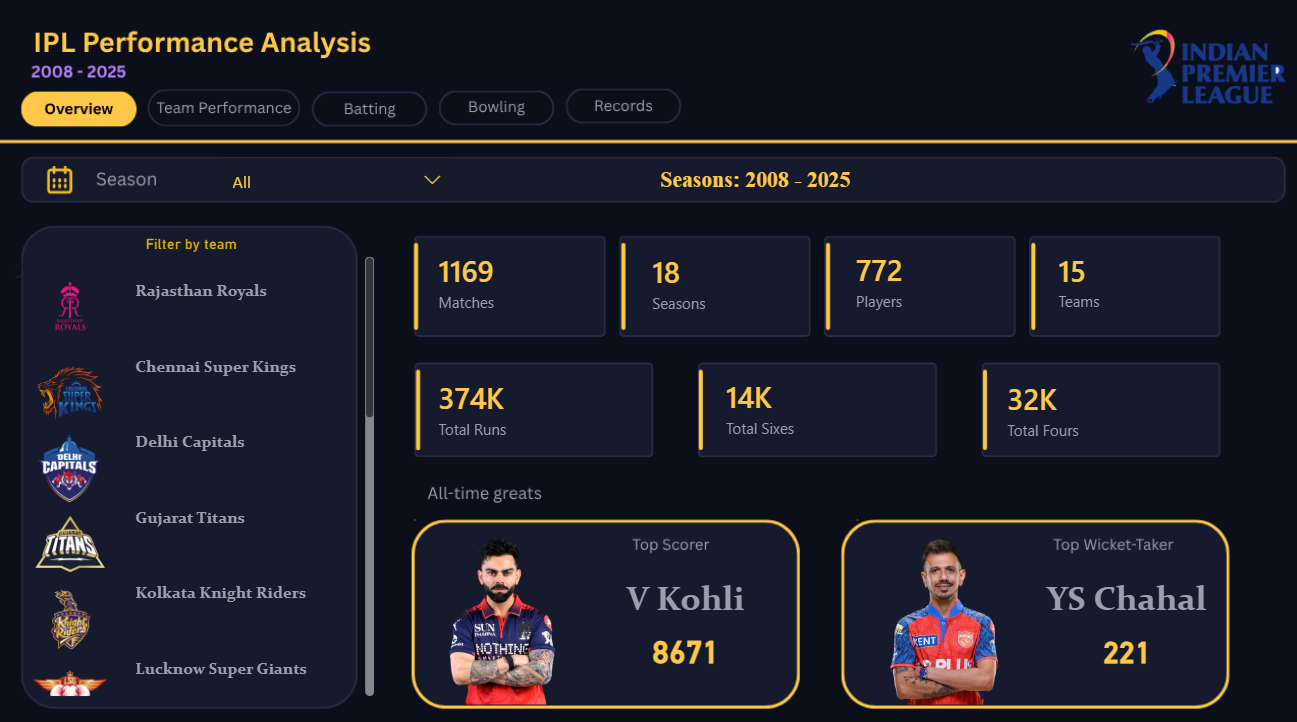

The dashboard page shown, as its layout file describes it:
{"tool":"powerbi","page":{"name":"Overview","canvas":[1280,720],"ordinal":0},"visuals":[{"type":"cardVisual","fields":{"Data":["_Measures.Total Fours"]},"box":[960.7,358.3,215.4,101.5],"z":0},{"type":"cardVisual","fields":{"Data":["_Measures.Total Sixes"]},"box":[684.7,358.3,215.4,97.4],"z":1000},{"type":"cardVisual","fields":{"Data":["_Measures.Total Matches"]},"box":[402.5,238,172.9,90.6],"z":2000},{"type":"cardVisual","fields":{"Data":["_Measures.Total Players"]},"box":[812.3,236.8,148.2,91.9],"z":3000},{"type":"cardVisual","fields":{"Data":["_Measures.Total Runs"]},"box":[402.5,357.1,215.4,101.5],"z":4000},{"type":"cardVisual","fields":{"Data":["_Measures.Total Seasons"]},"box":[612.3,238,145.5,93.3],"z":5000},{"type":"cardVisual","fields":{"Data":["_Measures.Total Teams"]},"box":[1011,234.4,215.4,97.4],"z":6000},{"type":"tableEx","title":"Filter by team","fields":{"Values":["ipl_teams_clean.image_url","ipl_teams_clean.team_name"]},"box":[9.8,234.4,358.3,452.8],"z":7000},{"type":"tableEx","title":"All-Time Top Scorer","fields":{"Values":["ipl_players_clean.player_image"]},"box":[401.2,504,171.8,201.2],"z":8000},{"type":"tableEx","fields":{"Values":["ipl_players_clean.player_image"]},"box":[835.7,504,188,201.7],"z":9000},{"type":"cardVisual","fields":{"Data":["_Measures.Total Runs by Player"],"Rows":["ipl_players_clean.player_name"]},"box":[566.7,573.6,214.1,113.9],"z":10000},{"type":"cardVisual","fields":{"Data":["_Measures.Total Wickets by Player"],"Rows":["ipl_players_clean.player_name"]},"box":[1000.3,573.6,214.1,113.9],"z":11000},{"type":"slicer","fields":{"Values":["ipl_matches_clean.season"]},"box":[218.4,160,225.8,39],"z":12000},{"type":"image","box":[1108,28.2,158.3,81],"z":13000},{"type":"cardVisual","fields":{"Data":["_Measures.Season Range"]},"box":[593.9,158.3,292,49.1],"z":14000},{"type":"actionButton","box":[148.5,85.9,135,39.3],"z":15000},{"type":"actionButton","box":[308,89.6,110.4,39.3],"z":16000},{"type":"actionButton","box":[431.9,85.9,110.4,39.3],"z":17000},{"type":"actionButton","box":[557.1,85.9,110.4,39.3],"z":18000}]}

Visuals, with their boxes in screenshot pixels (x1, y1, x2, y2), scaled from the page's 1280x720 canvas onto the 1297x722 screenshot:
cardVisual - _Measures.Total Fours: (left=973, top=359, right=1192, bottom=461)
cardVisual - _Measures.Total Sixes: (left=694, top=359, right=912, bottom=457)
cardVisual - _Measures.Total Matches: (left=408, top=239, right=583, bottom=330)
cardVisual - _Measures.Total Players: (left=823, top=237, right=973, bottom=330)
cardVisual - _Measures.Total Runs: (left=408, top=358, right=626, bottom=460)
cardVisual - _Measures.Total Seasons: (left=620, top=239, right=768, bottom=332)
cardVisual - _Measures.Total Teams: (left=1024, top=235, right=1243, bottom=333)
"Filter by team" tableEx: (left=10, top=235, right=373, bottom=689)
"All-Time Top Scorer" tableEx: (left=407, top=505, right=581, bottom=707)
tableEx - ipl_players_clean.player_image: (left=847, top=505, right=1037, bottom=708)
cardVisual - _Measures.Total Runs by Player x ipl_players_clean.player_name: (left=574, top=575, right=791, bottom=689)
cardVisual - _Measures.Total Wickets by Player x ipl_players_clean.player_name: (left=1014, top=575, right=1231, bottom=689)
slicer - ipl_matches_clean.season: (left=221, top=160, right=450, bottom=200)
image: (left=1123, top=28, right=1283, bottom=110)
cardVisual - _Measures.Season Range: (left=602, top=159, right=898, bottom=208)
actionButton: (left=150, top=86, right=287, bottom=126)
actionButton: (left=312, top=90, right=424, bottom=129)
actionButton: (left=438, top=86, right=550, bottom=126)
actionButton: (left=564, top=86, right=676, bottom=126)
